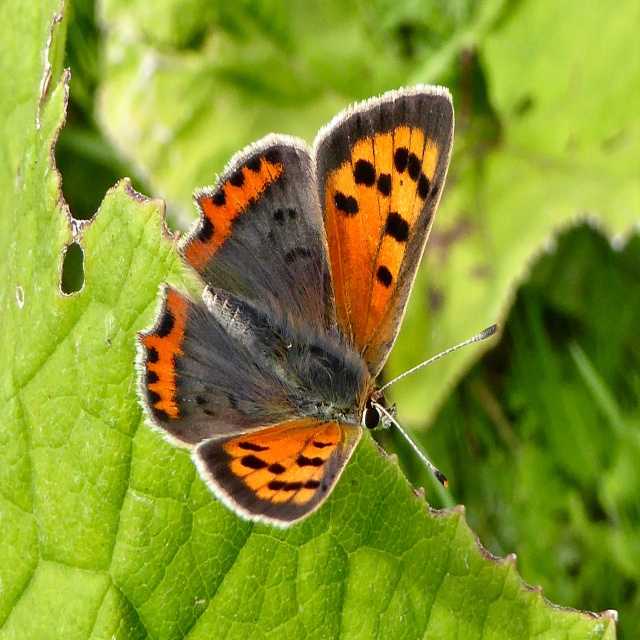Butterfly: (135, 83, 498, 526)
